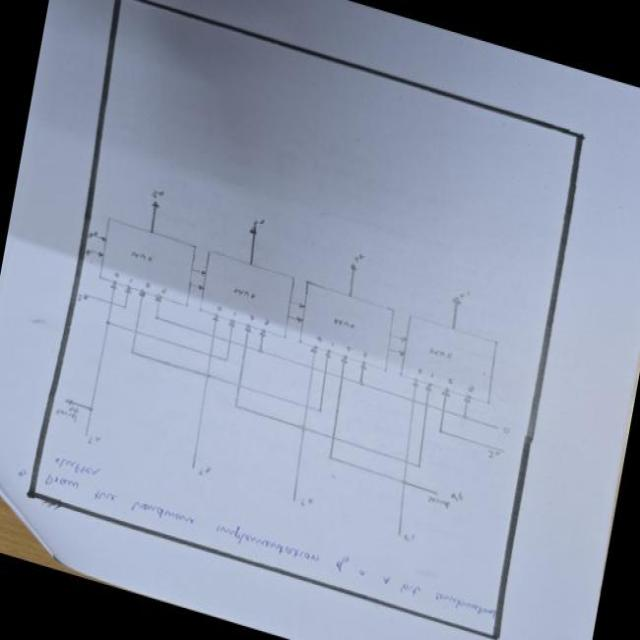Figure Detection - v3 Dataset Version2: (44, 156, 543, 577)
